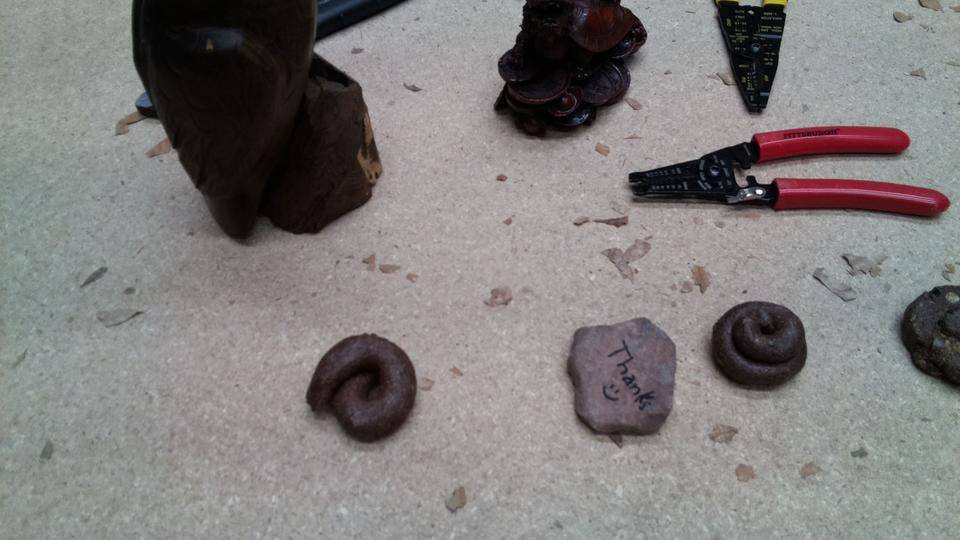poop: (302, 329, 422, 447), (707, 297, 810, 393), (897, 280, 960, 398)
